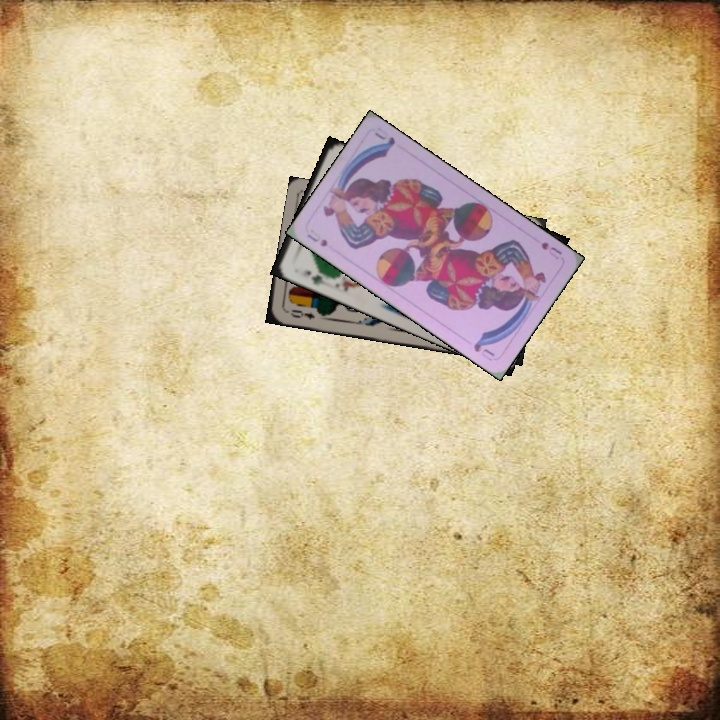EO: (287, 305, 318, 322)
GK: (298, 266, 330, 288)
SU: (537, 238, 564, 262), (303, 230, 330, 250)
